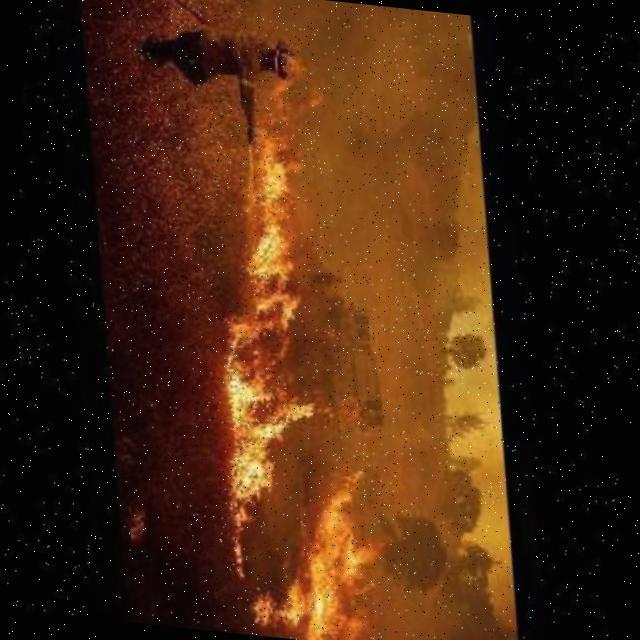fire: (196, 109, 353, 584), (245, 487, 379, 640)
